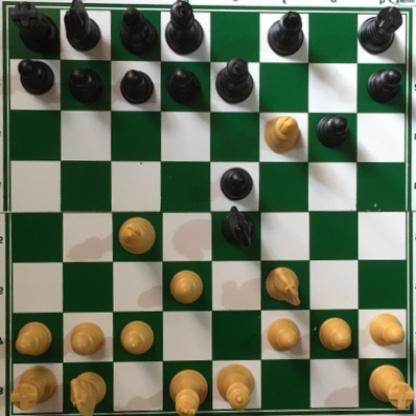black-bishop: (120, 5, 161, 53), (264, 11, 305, 57)
black-king: (165, 1, 206, 55)
black-knight: (62, 1, 101, 53), (219, 206, 258, 248)
black-pawn: (368, 66, 407, 105), (219, 163, 256, 202), (17, 56, 55, 93), (168, 68, 203, 107), (71, 67, 106, 106), (123, 69, 158, 105), (318, 109, 353, 144)
black-queen: (217, 55, 258, 104)
black-rook: (12, 1, 60, 54), (357, 3, 404, 54)
white-bishop: (118, 213, 161, 255), (263, 113, 304, 153)
white-king: (170, 366, 213, 416)
white-knight: (70, 369, 107, 416), (264, 261, 303, 304)
white-pawn: (366, 306, 408, 349), (316, 314, 355, 355), (15, 322, 58, 357), (117, 318, 155, 357), (168, 269, 205, 307), (266, 316, 304, 352), (70, 320, 106, 356)
white-queen: (216, 360, 259, 412)
white-rook: (367, 361, 415, 411), (12, 364, 61, 410)
